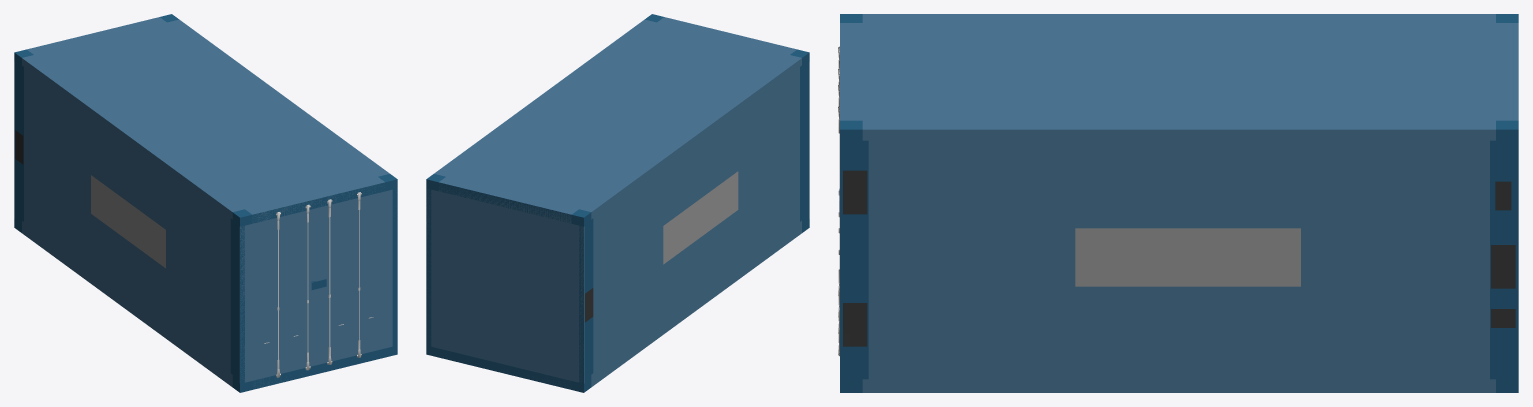
Rendered from s_containers_20_oilex.dae.
The picture shows the model from 3 angles, left to right: view 1: azimuth 30°, elevation 25°; view 2: azimuth 150°, elevation 25°; view 3: azimuth 270°, elevation 25°; orthographic projection. The views are drawn at different scales.
Parts seen in each view (by area): view 1: s_containers_20_oilex_L20, s_containers_20_oilex_L700, s_containers_20_oilex_L80, s_containers_20_oilex_L300; view 2: s_containers_20_oilex_L20, s_containers_20_oilex_L80, s_containers_20_oilex_L700, s_containers_20_oilex_L300; view 3: s_containers_20_oilex_L20, s_containers_20_oilex_L700, s_containers_20_oilex_L300, s_containers_20_oilex_L80.
Part boxes in pixels (x1,y1,x2,y2): s_containers_20_oilex_L20: (14,17,392,389); s_containers_20_oilex_L700: (14,14,397,392); s_containers_20_oilex_L80: (240,182,397,389); s_containers_20_oilex_L300: (14,14,397,392); s_containers_20_oilex_L20: (426,17,809,388); s_containers_20_oilex_L80: (426,182,583,389); s_containers_20_oilex_L700: (426,14,809,392); s_containers_20_oilex_L300: (426,14,809,392); s_containers_20_oilex_L20: (840,14,1518,392); s_containers_20_oilex_L700: (838,14,1518,392); s_containers_20_oilex_L300: (839,14,1518,392); s_containers_20_oilex_L80: (840,143,1518,392).
Size of the model in its own units: 2.48 by 6.07 by 2.6.
